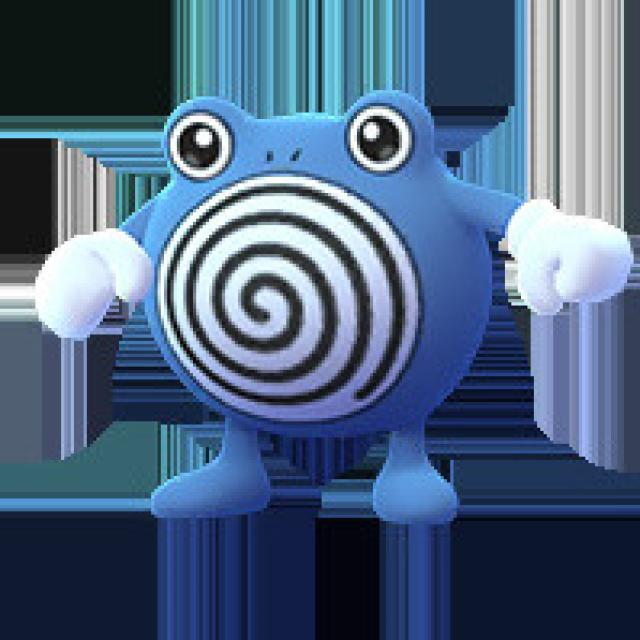Poliwhirl: (63, 93, 585, 523)
